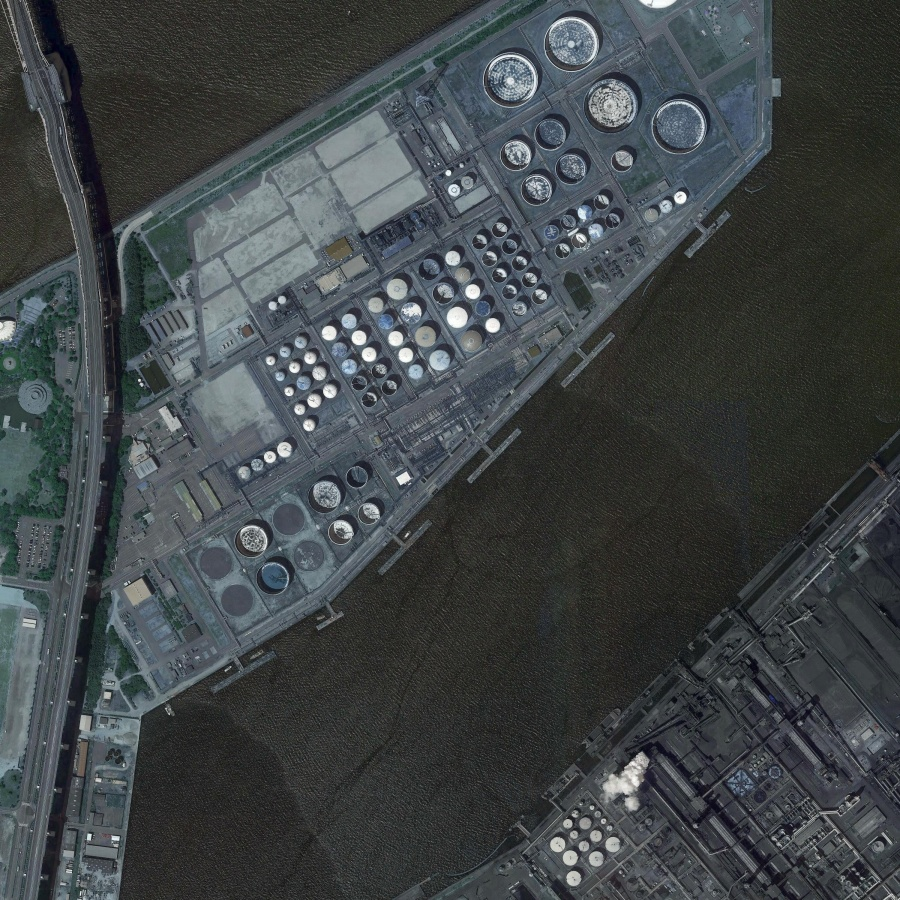PowerPlant: (181, 11, 714, 634)
